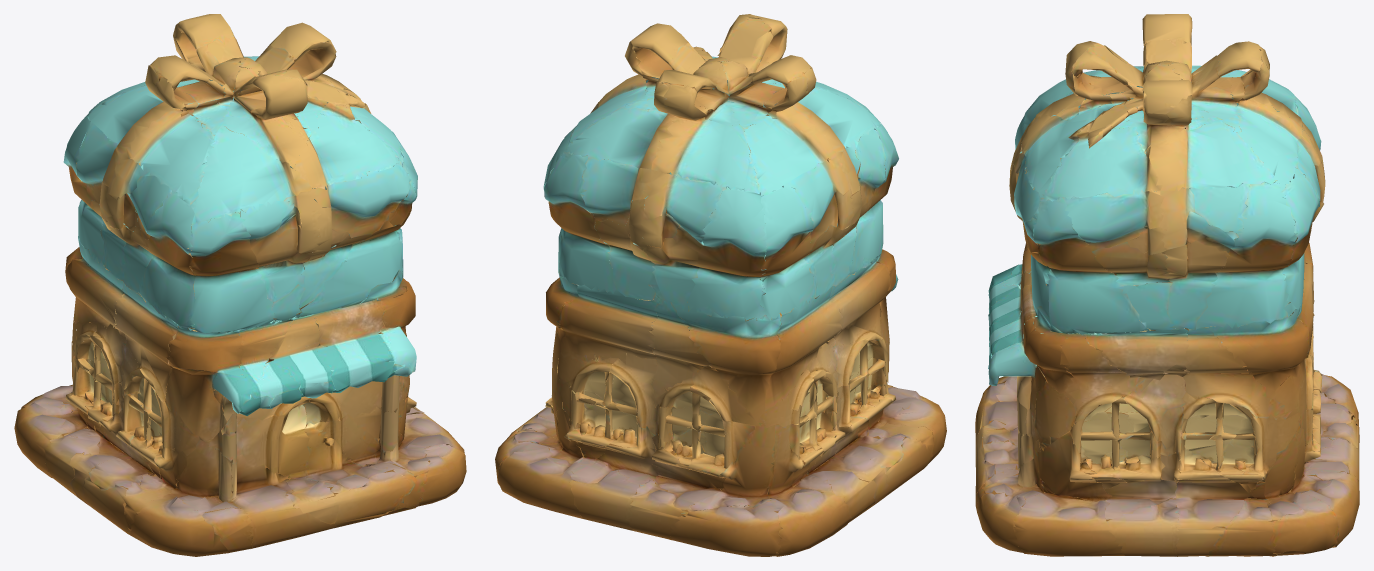
File: galeries-boutique.glb
3 renders of one model, left to right at view 1: azimuth 30°, elevation 25°; view 2: azimuth 150°, elevation 25°; view 3: azimuth 270°, elevation 25°, orthographic. The views are drawn at different scales.
Visible parts, largest first — view 1: Mesh_0; view 2: Mesh_0; view 3: Mesh_0.
Part boxes in pixels (x1=…): Mesh_0: x1=14, y1=14, x2=466, y2=556; Mesh_0: x1=495, y1=14, x2=946, y2=556; Mesh_0: x1=975, y1=14, x2=1359, y2=556.
Bounding box in the file's own units: 1.53 × 1.9 × 1.53.
1 material, 1 textured.
